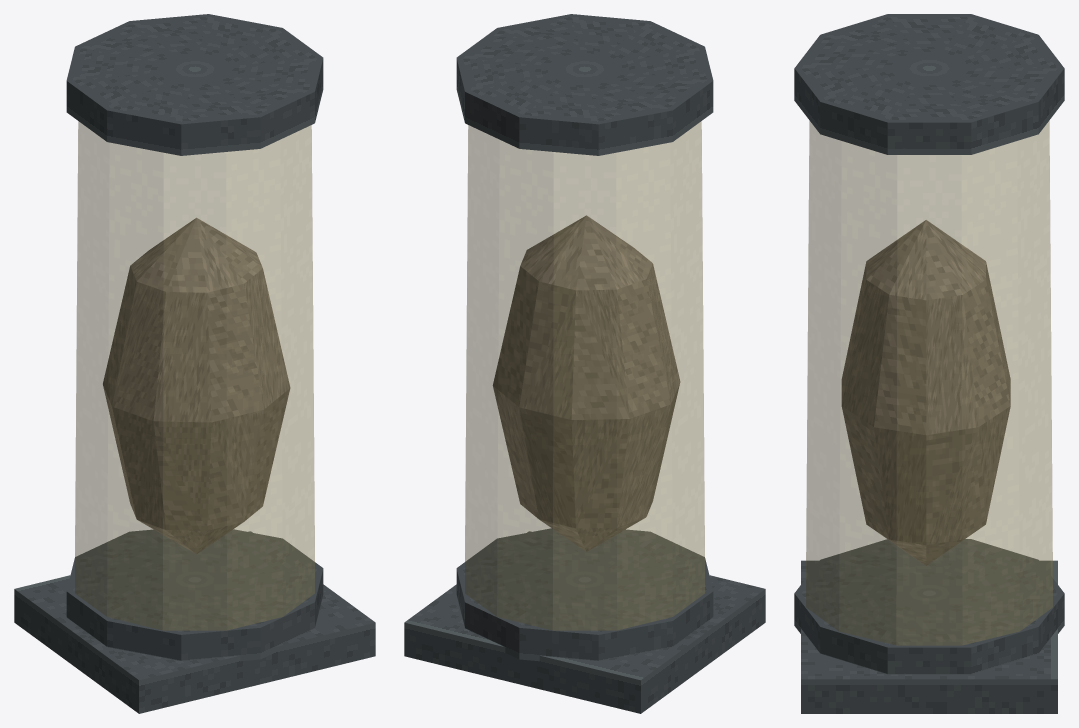
Rendered from f_nl_boiler.glb.
3 renders of one model, left to right at view 1: azimuth 30°, elevation 25°; view 2: azimuth 150°, elevation 25°; view 3: azimuth 270°, elevation 25°, orthographic. The views are drawn at different scales.
Visible parts, largest first — view 1: block_yellowed-clouded-housing, block_thick-bolted-boiler-ring (×2), block_obscured-internal-object, block_boiler-anchor-plate; view 2: block_yellowed-clouded-housing, block_thick-bolted-boiler-ring (×2), block_obscured-internal-object, block_boiler-anchor-plate; view 3: block_yellowed-clouded-housing, block_thick-bolted-boiler-ring (×2), block_obscured-internal-object, block_boiler-anchor-plate.
Boxes of the visible parts, <box> form: block_yellowed-clouded-housing: <box>75,121,314,630</box>; block_thick-bolted-boiler-ring (×2): <box>66,14,323,661</box>; block_obscured-internal-object: <box>103,218,290,553</box>; block_boiler-anchor-plate: <box>14,531,375,713</box>; block_yellowed-clouded-housing: <box>465,121,704,630</box>; block_thick-bolted-boiler-ring (×2): <box>456,14,713,661</box>; block_obscured-internal-object: <box>493,215,680,551</box>; block_boiler-anchor-plate: <box>404,531,765,713</box>; block_yellowed-clouded-housing: <box>806,120,1052,645</box>; block_thick-bolted-boiler-ring (×2): <box>794,14,1064,674</box>; block_obscured-internal-object: <box>841,220,1010,565</box>; block_boiler-anchor-plate: <box>801,560,1057,713</box>.
Bounding box in the file's own units: 0.853 × 1.96 × 0.82.
2 materials, 2 textured.
